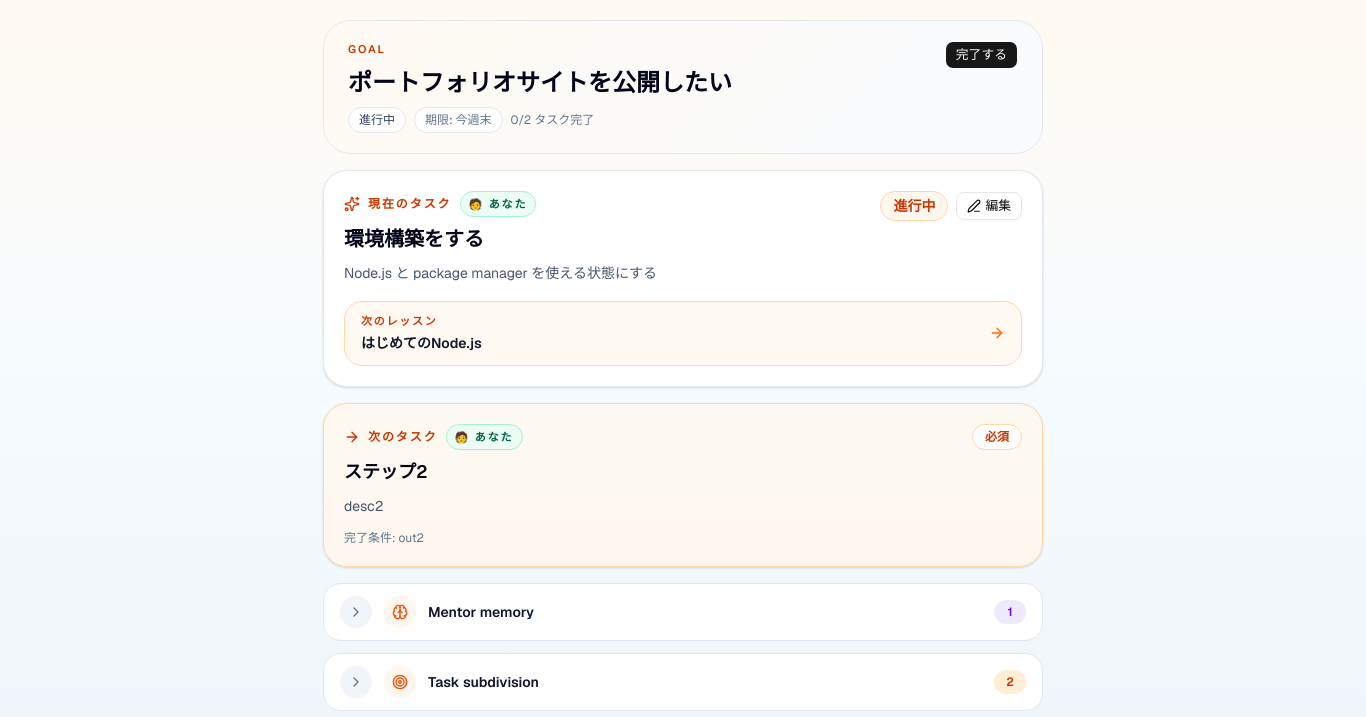
Test case: MentorWorkspaceView › does not expose Do/Learn/Why textareas while inline editing
The width and height of the screenshot is (1366, 717).
Click the button with test id "mentor-workspace-edit-task".
click(989, 206)  # box [956,192,1022,220]
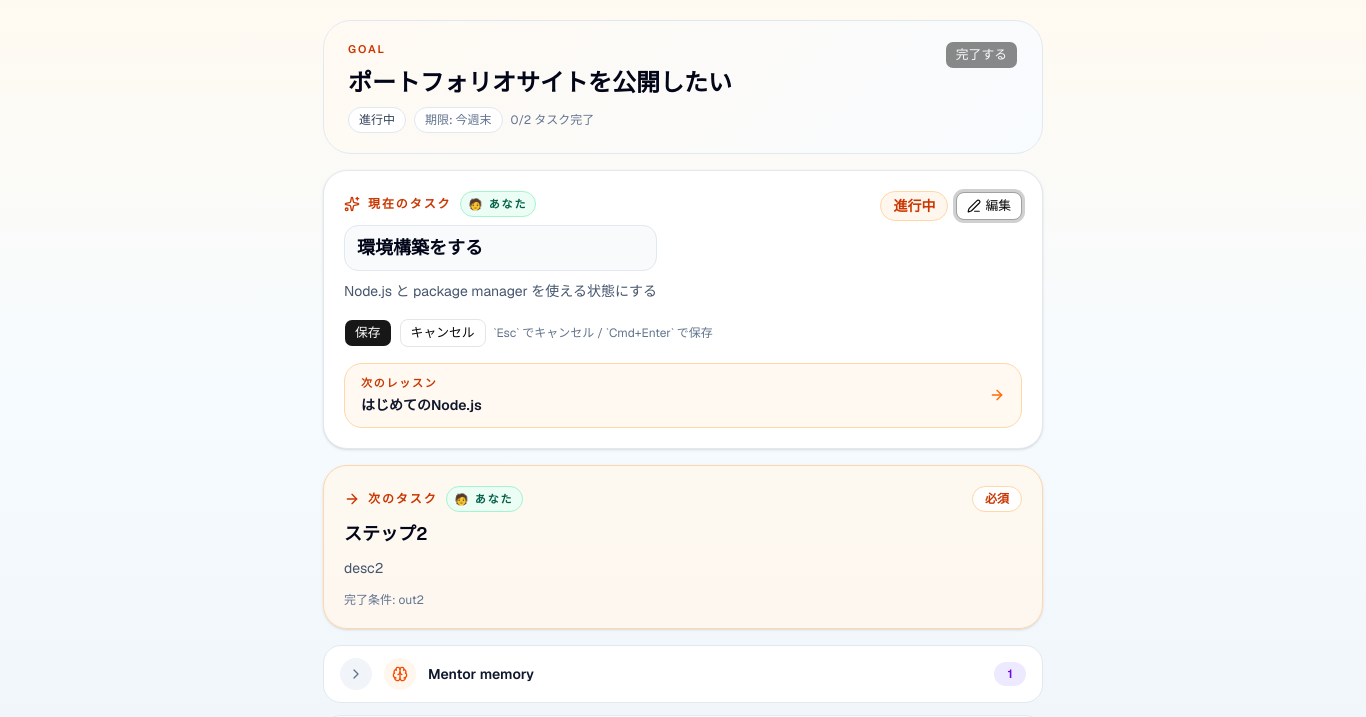
Expected: the field named "タスクタイトル" is shown, [344,224,657,270]
